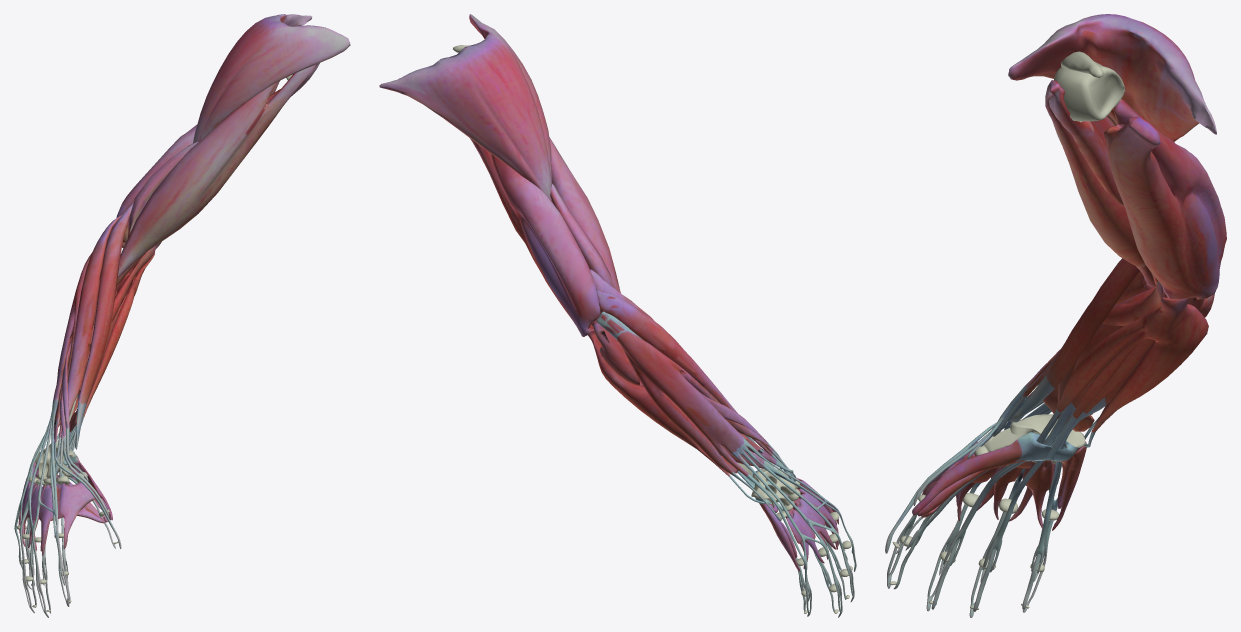
Rendered from bcc699bf-e93d-4ae8-a456-0bf8db8864b7.fbx.
3 renders of one model, left to right at view 1: azimuth 30°, elevation 25°; view 2: azimuth 150°, elevation 25°; view 3: azimuth 270°, elevation 25°, orthographic. The views are drawn at different scales.
Visible parts, largest first — view 1: male_shoulder_arm_musclesR-hi, male_forearm_anterior_musclesR-hi, male_forearm_posterior_musclesR-hi, male_hand_musclesR-hi, male_forearm_deep_musclesR-hi, male_cartilage_ligaments_armR-hi; view 2: male_shoulder_arm_musclesR-hi, male_forearm_anterior_musclesR-hi, male_hand_musclesR-hi, male_forearm_posterior_musclesR-hi, male_cartilage_ligaments_armR-hi, male_forearm_deep_musclesR-hi; view 3: male_shoulder_arm_musclesR-hi, male_forearm_posterior_musclesR-hi, male_forearm_deep_musclesR-hi, male_hand_musclesR-hi, male_cartilage_ligaments_armR-hi, male_forearm_anterior_musclesR-hi.
Part boxes in pixels (x1,y1,x2,y2): male_shoulder_arm_musclesR-hi: [116, 14, 350, 285]; male_forearm_anterior_musclesR-hi: [14, 215, 121, 617]; male_forearm_posterior_musclesR-hi: [56, 203, 156, 476]; male_hand_musclesR-hi: [18, 451, 112, 555]; male_forearm_deep_musclesR-hi: [25, 263, 136, 613]; male_cartilage_ligaments_armR-hi: [16, 74, 292, 611]; male_shoulder_arm_musclesR-hi: [379, 14, 620, 336]; male_forearm_anterior_musclesR-hi: [592, 289, 856, 617]; male_hand_musclesR-hi: [755, 468, 838, 571]; male_forearm_posterior_musclesR-hi: [588, 269, 764, 503]; male_cartilage_ligaments_armR-hi: [453, 45, 852, 613]; male_forearm_deep_musclesR-hi: [622, 338, 847, 611]; male_shoulder_arm_musclesR-hi: [1008, 14, 1226, 299]; male_forearm_posterior_musclesR-hi: [1009, 258, 1208, 460]; male_forearm_deep_musclesR-hi: [893, 271, 1191, 611]; male_hand_musclesR-hi: [912, 432, 1086, 530]; male_cartilage_ligaments_armR-hi: [889, 51, 1125, 609]; male_forearm_anterior_musclesR-hi: [885, 282, 1214, 617].
Bounding box in the file's own units: 46.7 × 61.75 × 22.92.
Materials: 57 (57 with a texture image).
